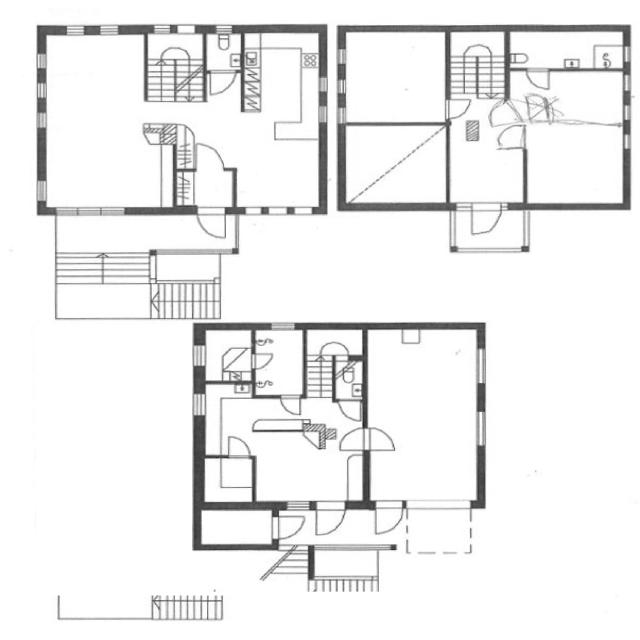door: (464, 200, 506, 241), (312, 499, 348, 539), (193, 205, 230, 242), (370, 499, 406, 537), (270, 512, 308, 542), (192, 140, 227, 172), (362, 424, 398, 454), (493, 122, 528, 152), (154, 40, 196, 64), (206, 68, 237, 97), (222, 434, 254, 461), (336, 426, 368, 453), (440, 95, 473, 121), (315, 339, 354, 360), (524, 66, 551, 92), (336, 398, 364, 423), (278, 393, 304, 418), (461, 42, 494, 60), (249, 350, 275, 371)
window: (51, 202, 133, 221), (403, 498, 473, 514), (472, 344, 490, 388), (618, 75, 634, 124), (472, 407, 489, 450), (191, 389, 208, 420), (318, 76, 342, 97), (281, 498, 313, 513), (33, 177, 49, 205), (192, 342, 207, 371), (62, 22, 88, 36), (96, 22, 122, 36), (34, 78, 49, 102), (34, 109, 49, 131), (34, 52, 49, 74), (172, 22, 198, 34), (267, 321, 298, 331), (334, 104, 348, 126), (316, 102, 328, 126), (150, 22, 174, 34), (334, 46, 348, 66), (620, 72, 632, 95), (620, 43, 632, 65), (316, 74, 328, 96), (620, 131, 632, 153), (620, 101, 632, 123), (335, 78, 348, 98), (212, 24, 235, 34)
zone: (42, 29, 172, 212), (364, 324, 482, 509), (238, 38, 322, 212), (342, 30, 447, 125), (342, 122, 447, 205), (524, 122, 626, 207), (516, 69, 626, 124), (506, 30, 626, 70), (252, 328, 304, 398), (156, 31, 243, 70), (196, 507, 275, 548), (199, 456, 255, 506), (202, 328, 252, 382), (174, 169, 234, 210), (147, 31, 202, 62), (308, 329, 362, 358), (205, 31, 242, 71), (335, 356, 364, 402)
